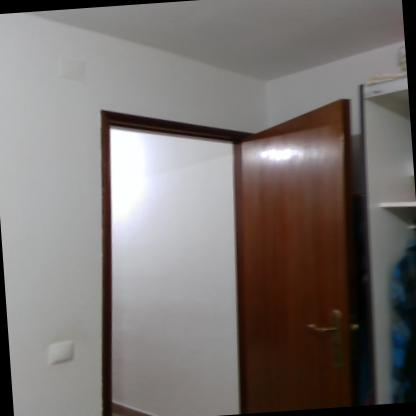open: (77, 72, 377, 415)
